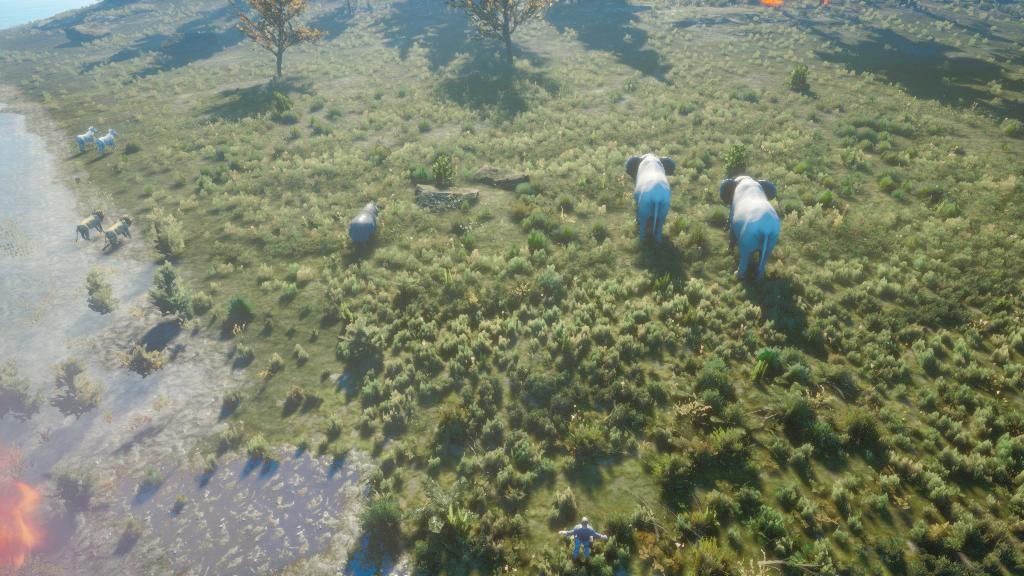elephant: (713, 156, 796, 292), (617, 133, 696, 255)
hippopotamus: (345, 185, 400, 265)
human: (549, 507, 617, 575)
lion: (61, 202, 110, 247), (101, 212, 141, 258)
zebra: (96, 120, 119, 160), (75, 120, 100, 152)
